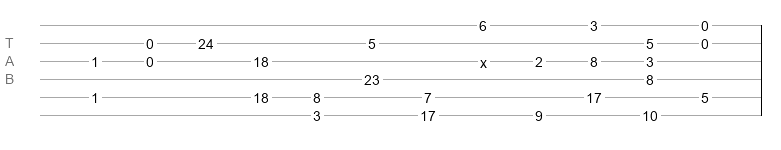0: (146, 36, 154, 46), (146, 54, 154, 64), (701, 36, 709, 46), (701, 18, 709, 28)
1: (91, 54, 99, 64), (91, 90, 99, 100)
10: (642, 108, 658, 118)
17: (420, 108, 436, 118), (586, 90, 602, 100)
18: (253, 54, 269, 64), (253, 90, 269, 100)
2: (535, 54, 543, 64)
23: (364, 72, 380, 82)
24: (198, 36, 214, 46)
3: (313, 108, 321, 118), (590, 18, 598, 28), (646, 54, 654, 64)
5: (368, 36, 376, 46), (646, 36, 654, 46), (701, 90, 709, 100)
6: (479, 18, 487, 28)
7: (424, 90, 432, 100)
8: (313, 90, 321, 100), (590, 54, 598, 64), (646, 72, 654, 82)
9: (535, 108, 543, 118)
x: (480, 55, 487, 63)
